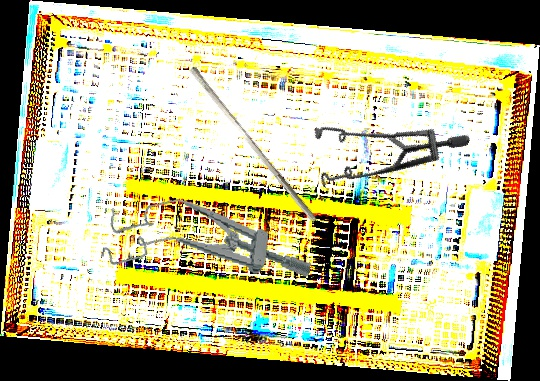Pusher: (183, 65, 324, 224)
Speculum: (293, 71, 472, 237), (99, 188, 318, 294)
